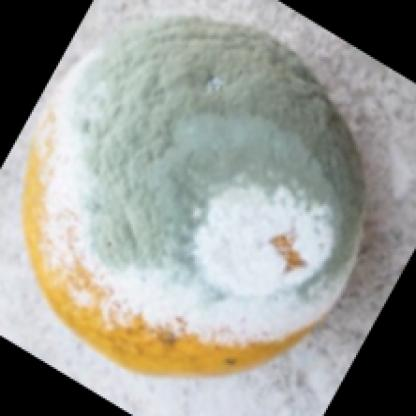rotten: (23, 18, 365, 382)
